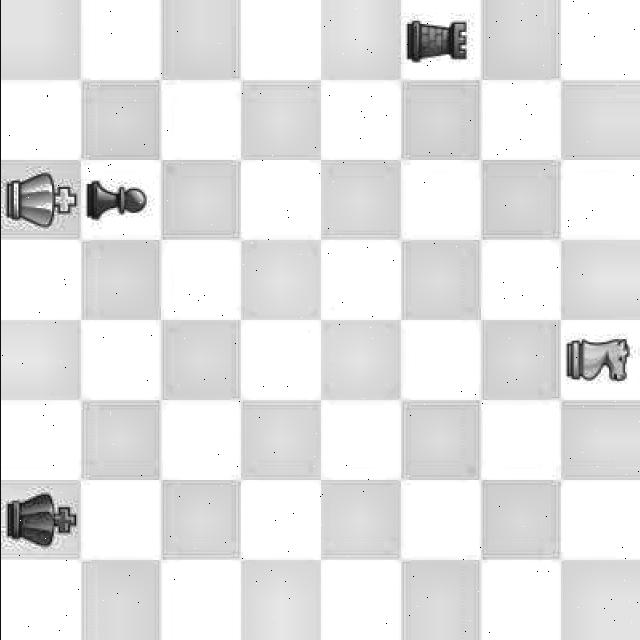black king: (0, 483, 83, 550)
black pawn: (81, 164, 157, 237)
black rook: (399, 5, 475, 75)
white king: (4, 160, 82, 236)
whiteknight: (562, 320, 640, 393)
